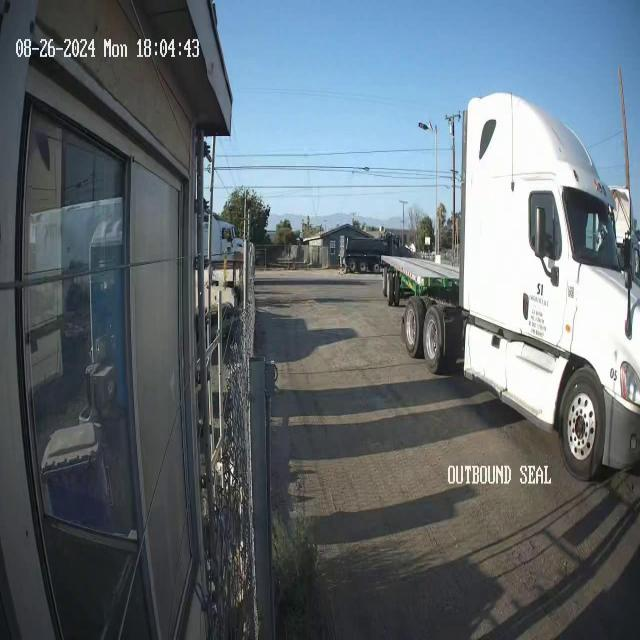BOBTAIL: (381, 89, 639, 482)
